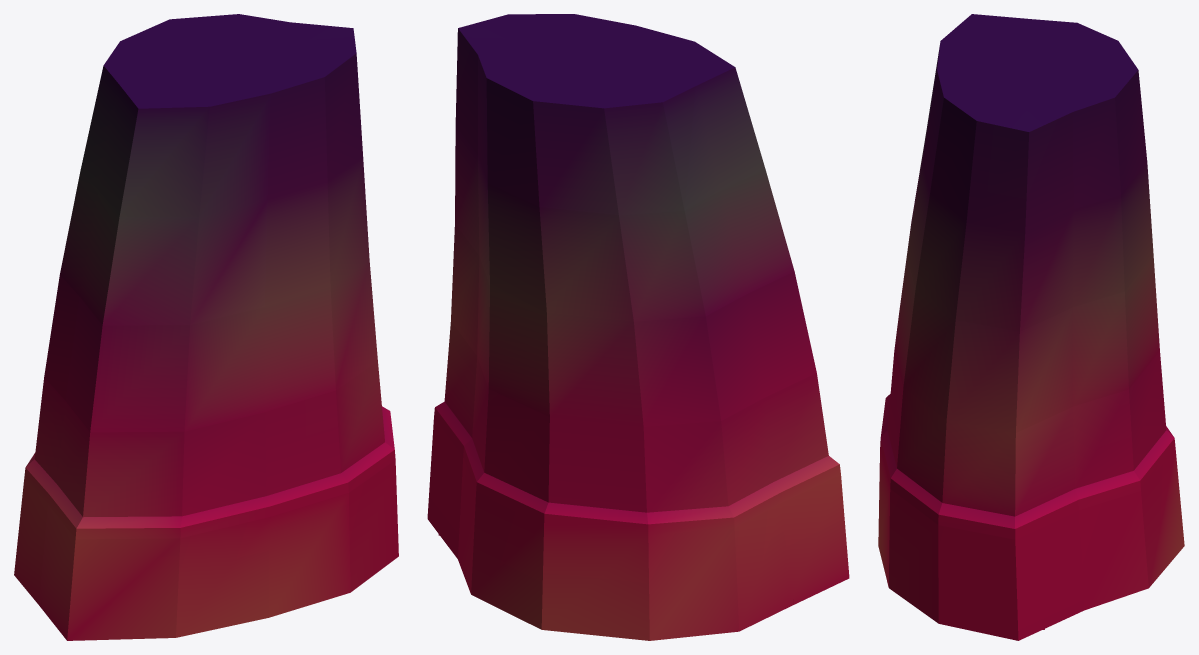
File: SM_CinderCanyon_Rock_C_LOD2.fbx
3 renders of one model, left to right at view 1: azimuth 30°, elevation 25°; view 2: azimuth 150°, elevation 25°; view 3: azimuth 270°, elevation 25°, orthographic. The views are drawn at different scales.
Parts seen in each view (by area): view 1: SM_CinderCanyon_Rock_C_LOD2; view 2: SM_CinderCanyon_Rock_C_LOD2; view 3: SM_CinderCanyon_Rock_C_LOD2.
Boxes of the visible parts, <box> form: SM_CinderCanyon_Rock_C_LOD2: <box>14,14,398,640</box>; SM_CinderCanyon_Rock_C_LOD2: <box>427,14,849,640</box>; SM_CinderCanyon_Rock_C_LOD2: <box>878,14,1184,640</box>.
Size of the model in its own units: 100 by 72 by 128.
